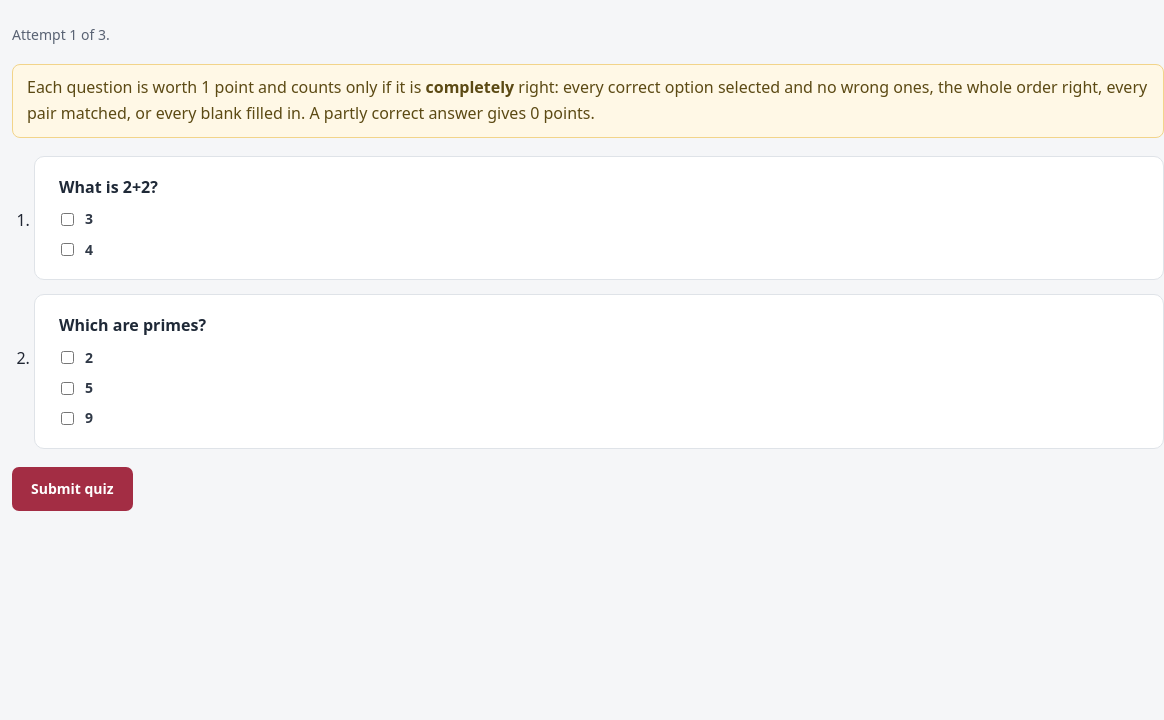
Test: QuizTaker › switches to the closed view when the deadline passes while the student is answering
The image size is (1164, 720).
Click the checkbox labelled "4" at (68,250), box [61,243,74,256]
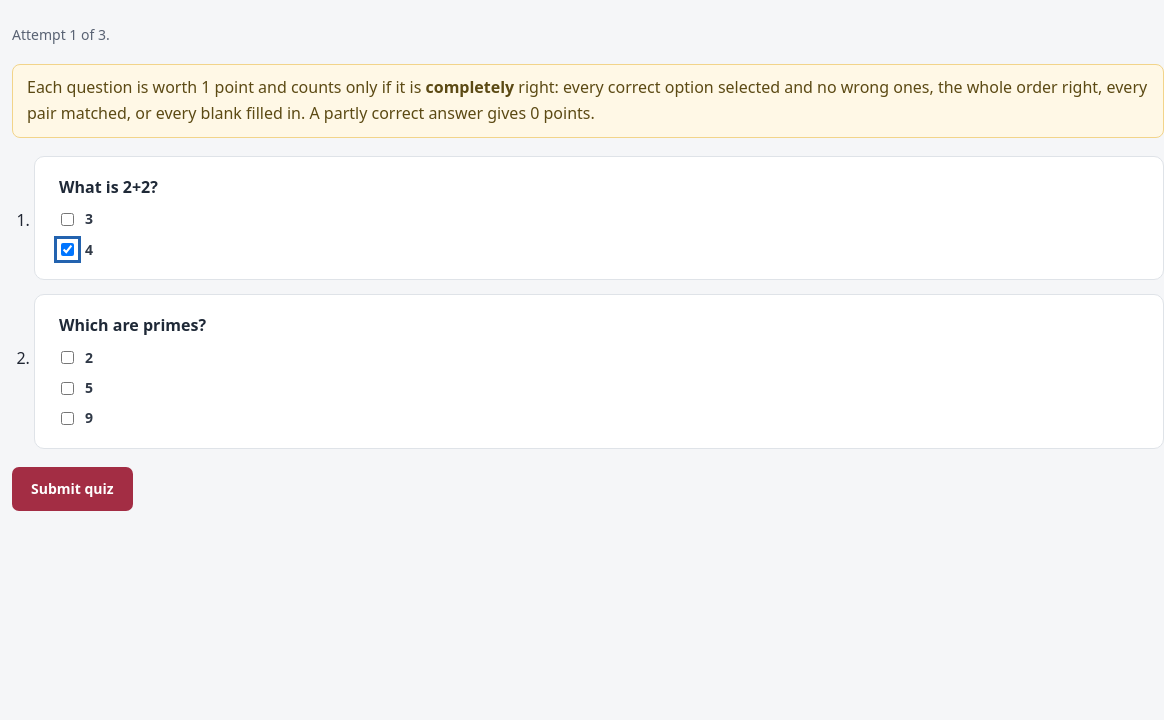
Click the button "Submit quiz" at (72,489), box [12,467,133,511]
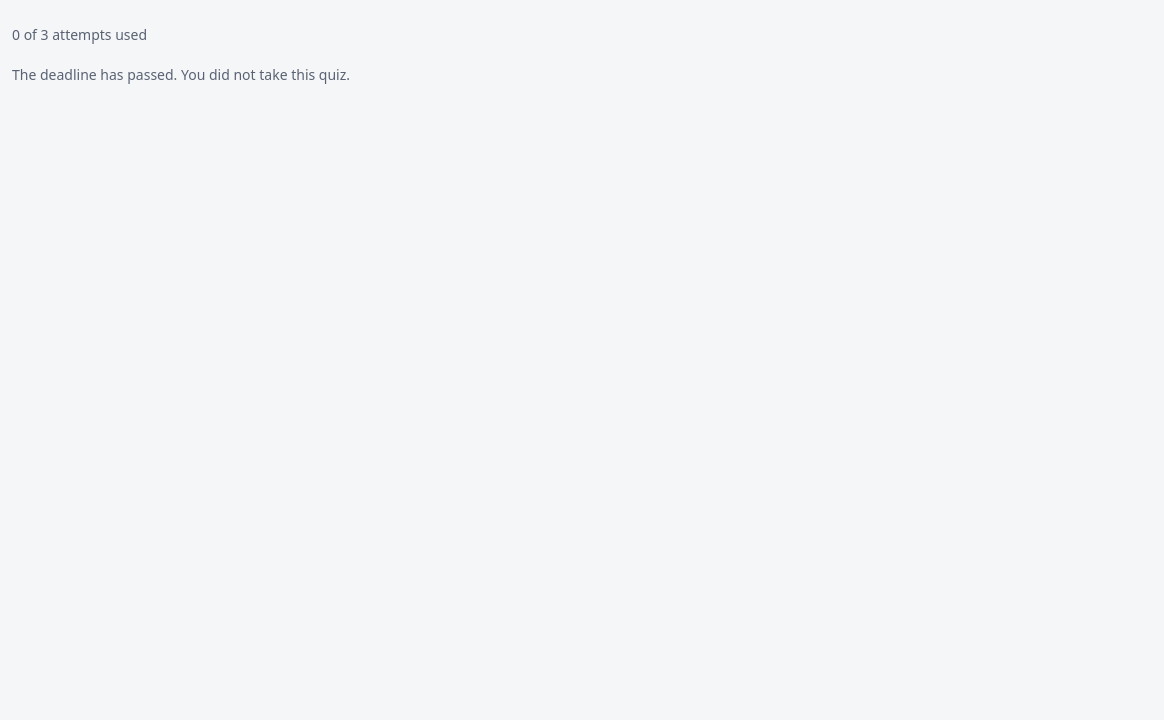
Result: the text "The deadline has passed. You did not take this quiz." is shown at [12,65,350,84]
Result: the button "Submit quiz" is gone
